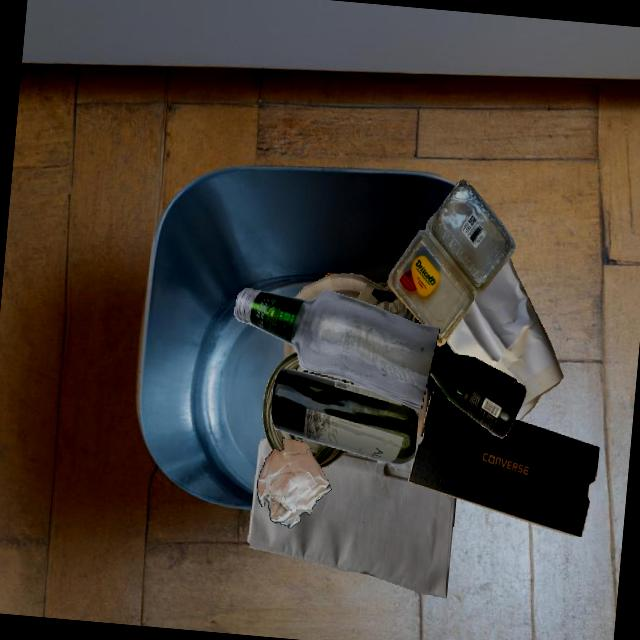biowaste: (323, 273, 335, 278)
cardboard: (408, 392, 599, 536)
glass: (233, 287, 439, 411), (270, 367, 418, 464), (262, 351, 366, 467), (429, 348, 526, 438)
paper: (247, 436, 456, 598), (446, 257, 563, 420), (286, 284, 366, 383), (257, 438, 331, 528), (346, 383, 414, 453), (356, 282, 422, 324), (294, 273, 376, 300)
plastic: (387, 179, 515, 346)
